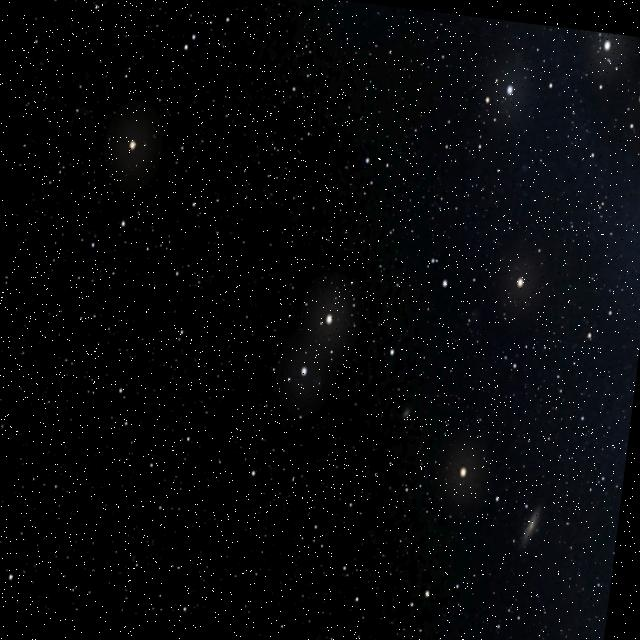Aries: (272, 139, 376, 414)
